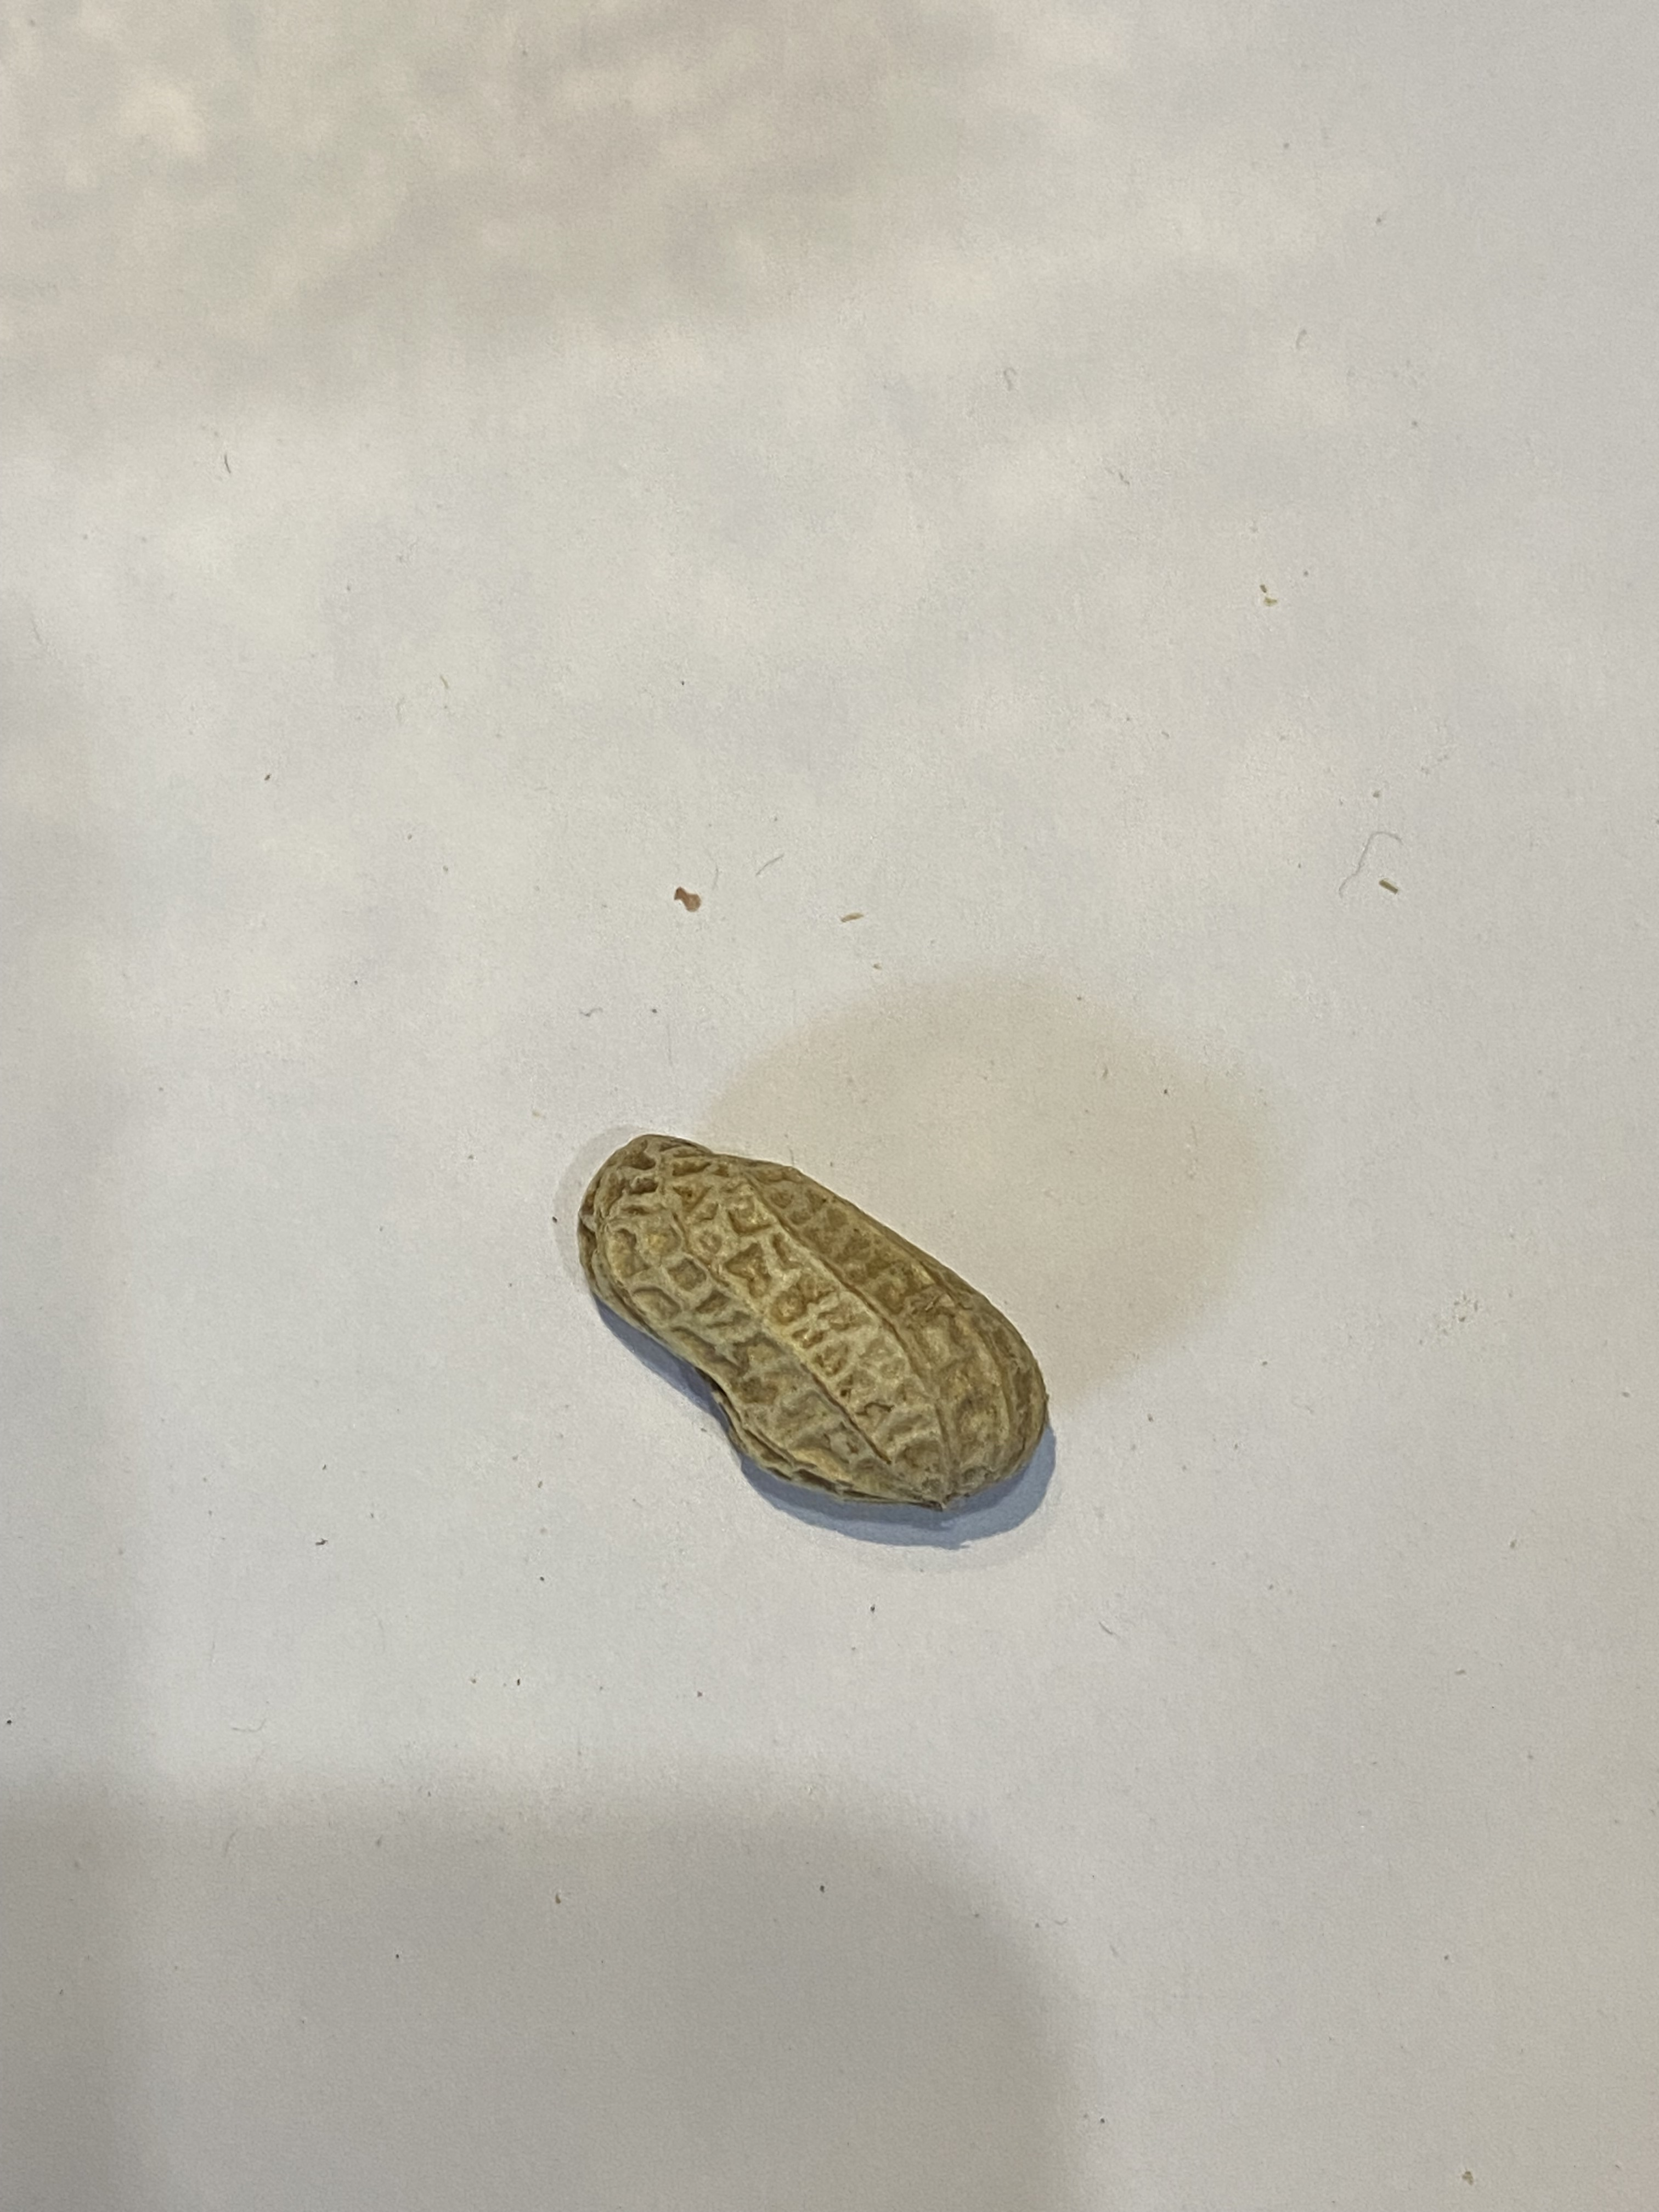kacang2: (566, 1116, 1058, 1534)
